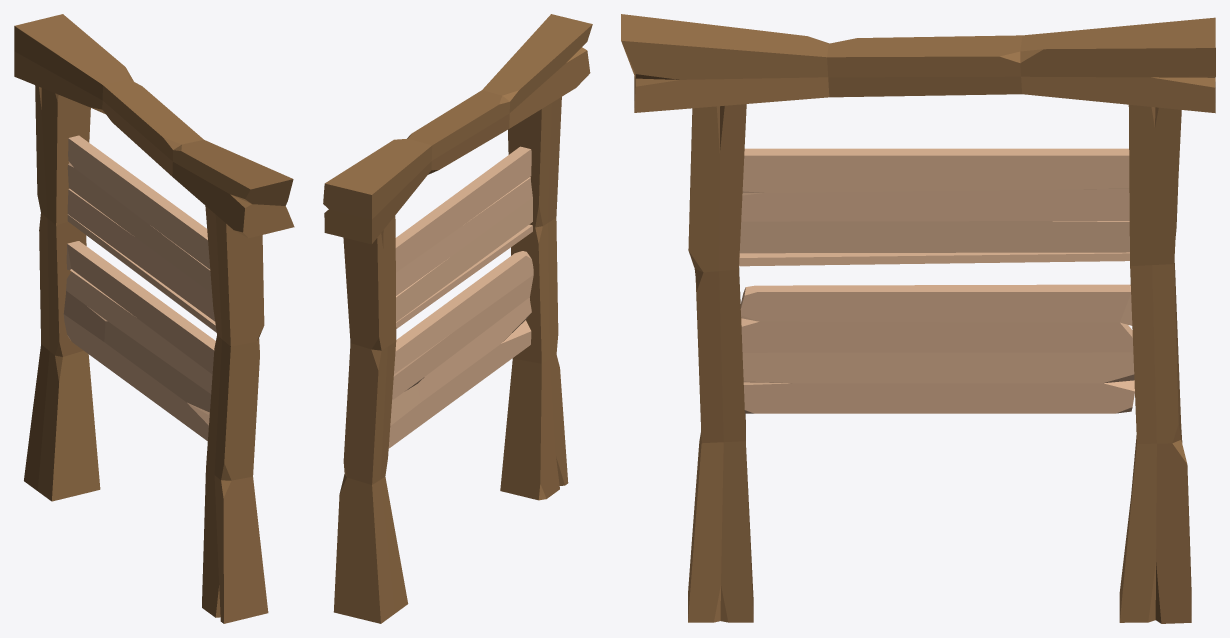
File: VillageSign_test.fbx
3 renders of one model, left to right at view 1: azimuth 30°, elevation 25°; view 2: azimuth 150°, elevation 25°; view 3: azimuth 270°, elevation 25°, orthographic. The views are drawn at different scales.
Parts seen in each view (by area): view 1: 큐브.003; view 2: 큐브.003; view 3: 큐브.003.
Part boxes in pixels (box(x1,y1,x2,y2)): 큐브.003: box(14, 14, 294, 623); 큐브.003: box(323, 14, 592, 623); 큐브.003: box(621, 14, 1215, 623).
Bounding box in the file's own units: 38.23 × 310 × 287.
